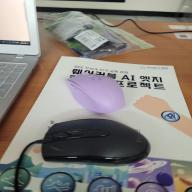mouse: (36, 112, 160, 172), (62, 68, 135, 119)
